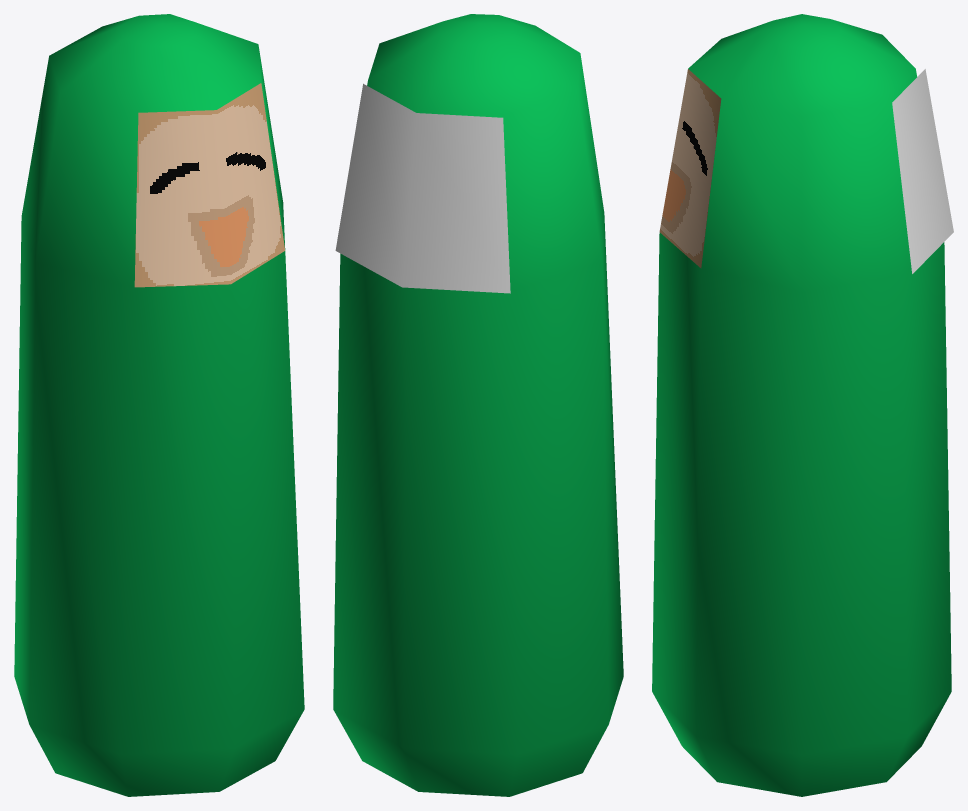
Rendered from OTA_N_00.glb.
The picture shows the model from 3 angles, left to right: view 1: azimuth 30°, elevation 25°; view 2: azimuth 150°, elevation 25°; view 3: azimuth 270°, elevation 25°; orthographic projection.
Visible parts, largest first — view 1: FRAME_ROOT; view 2: FRAME_ROOT; view 3: FRAME_ROOT.
Boxes of the visible parts, box(x1,y1,x2,y2) form: FRAME_ROOT: box(14, 14, 304, 796); FRAME_ROOT: box(333, 14, 623, 796); FRAME_ROOT: box(652, 14, 953, 796).
Size of the model in its own units: 1.28 by 3.4 by 1.29.
3 materials, 3 textured.
